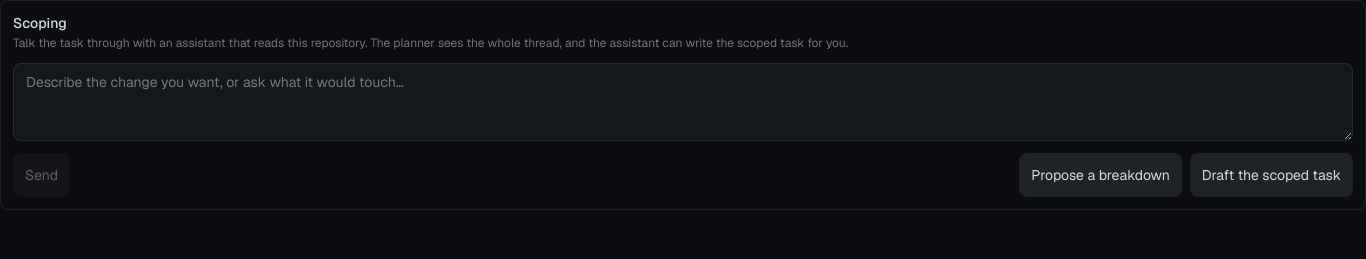
it: ScopingPanel › surfaces a failed turn without losing the draft
In the text box named "Your message": (683, 102) top-left (13, 63), bottom-right (1353, 141), type "hello"
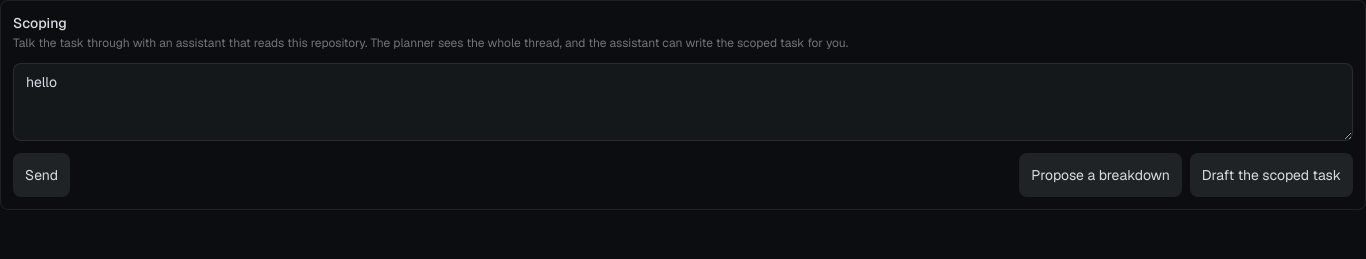
Click the button "Send": (42, 175) top-left (13, 153), bottom-right (70, 197)
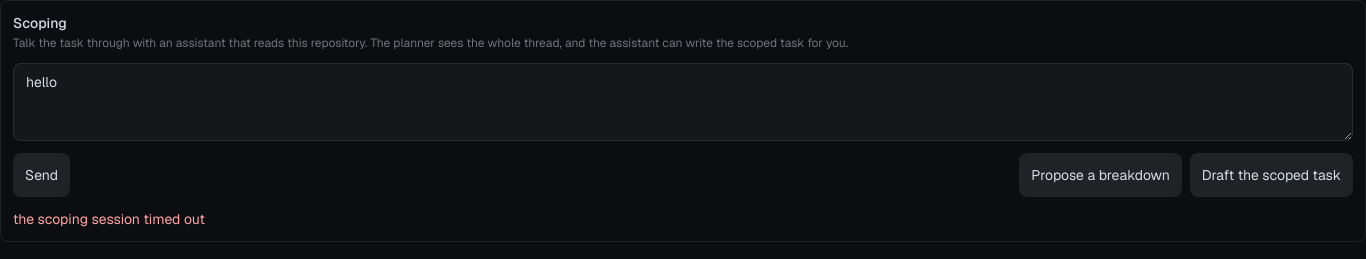
Now the message reads "the scoping session timed out", box top-left (13, 210), bottom-right (205, 228)
